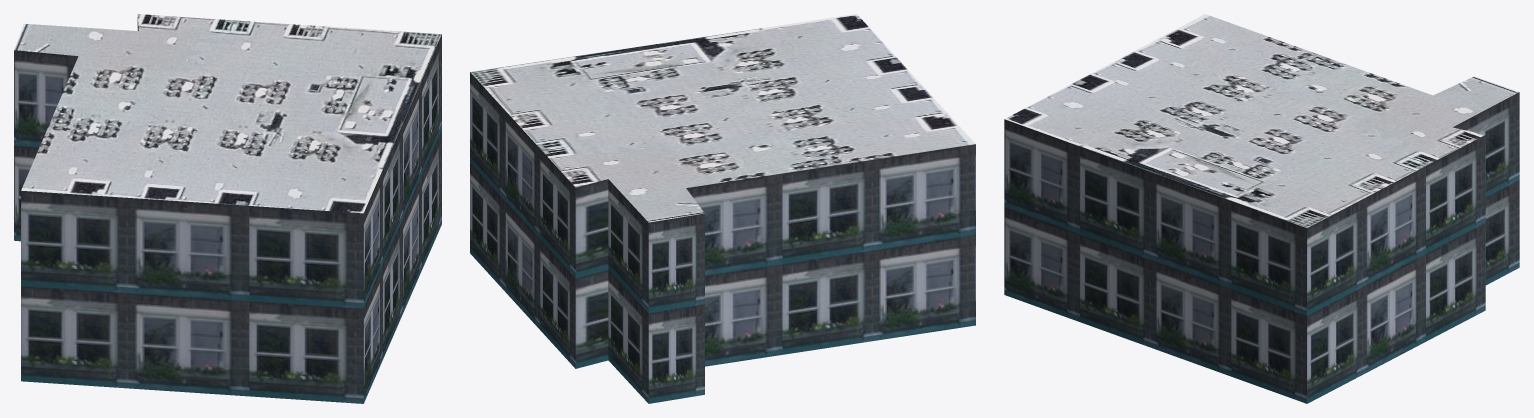
File: ResTex__2955.fbx
The picture shows the model from 3 angles, left to right: view 1: azimuth 30°, elevation 25°; view 2: azimuth 150°, elevation 25°; view 3: azimuth 270°, elevation 25°; orthographic projection. The views are drawn at different scales.
Visible parts, largest first — view 1: CityEngineMaterial_11_m, CityEngineMaterial_4_m; view 2: CityEngineMaterial_11_m, CityEngineMaterial_4_m; view 3: CityEngineMaterial_11_m, CityEngineMaterial_4_m.
Boxes of the visible parts, box(x1,y1,x2,y2) form: CityEngineMaterial_11_m: box(14, 17, 441, 403); CityEngineMaterial_4_m: box(14, 14, 441, 213); CityEngineMaterial_11_m: box(470, 72, 975, 403); CityEngineMaterial_4_m: box(470, 14, 975, 222); CityEngineMaterial_11_m: box(1004, 92, 1519, 403); CityEngineMaterial_4_m: box(1005, 14, 1518, 227).
Bounding box in the file's own units: 15.69 × 6 × 15.94.
2 materials, 2 textured.
